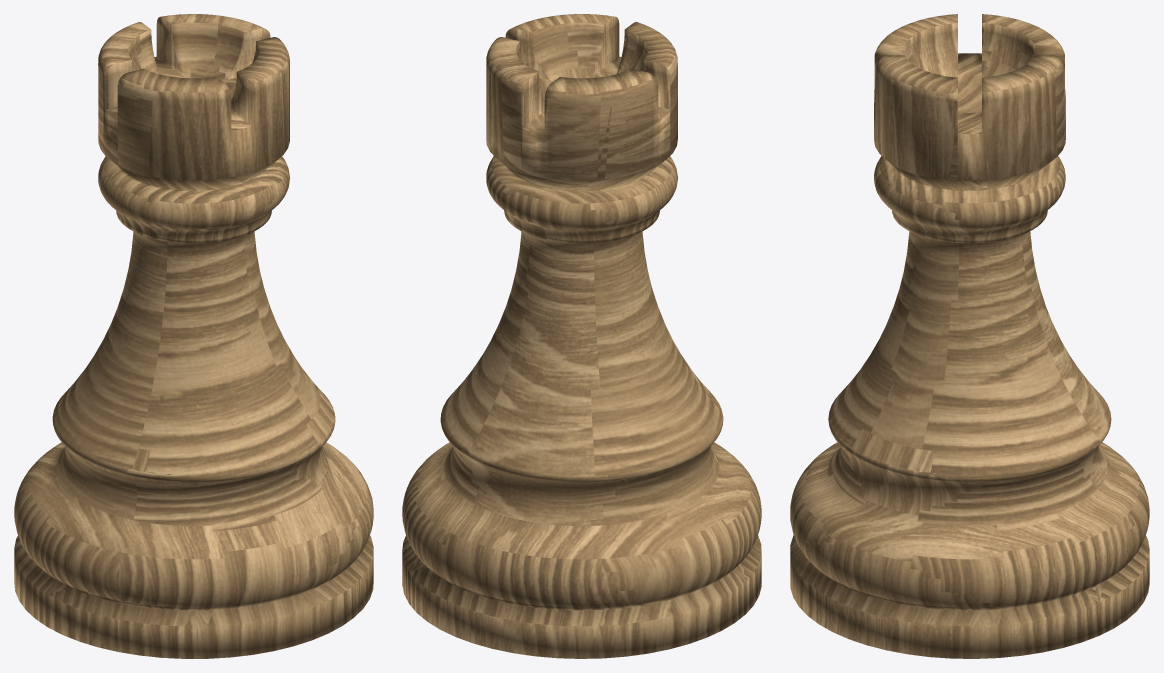
Rendered from w_rook.glb.
The picture shows the model from 3 angles, left to right: view 1: azimuth 30°, elevation 25°; view 2: azimuth 150°, elevation 25°; view 3: azimuth 270°, elevation 25°; orthographic projection.
Parts seen in each view (by area): view 1: Rook; view 2: Rook; view 3: Rook.
Part boxes in pixels (x1=…): Rook: x1=14, y1=14, x2=373, y2=658; Rook: x1=402, y1=14, x2=761, y2=658; Rook: x1=790, y1=14, x2=1149, y2=658.
Bounding box in the file's own units: 29.98 × 49 × 29.98.
1 material, 1 textured.
